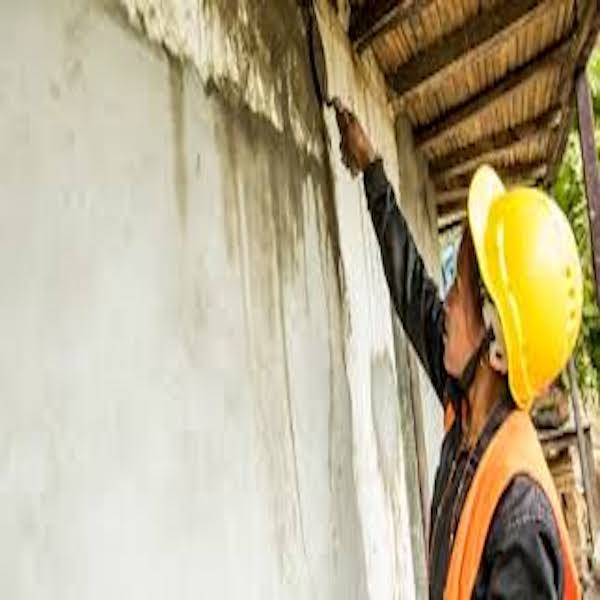helmet: (468, 160, 586, 404)
vest: (433, 408, 580, 600)
